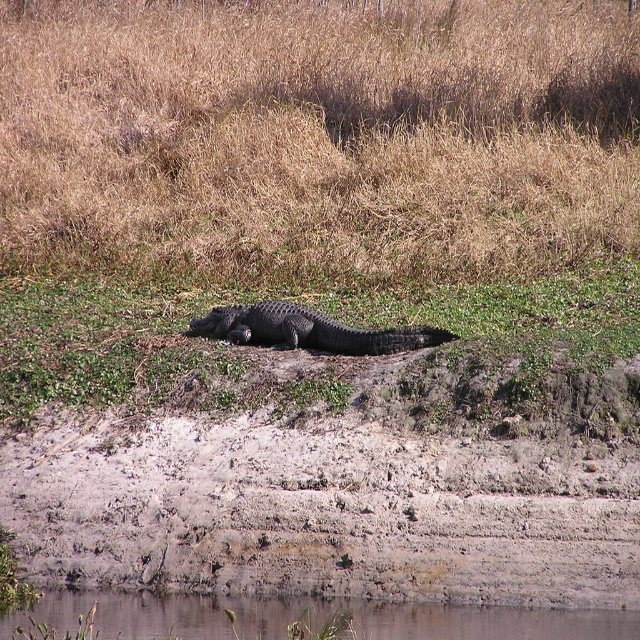Crocodile: (183, 302, 460, 359)
